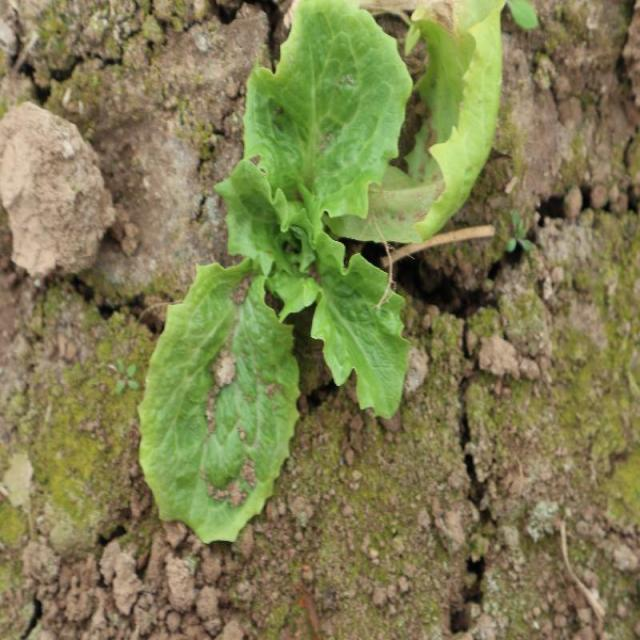crop: (133, 0, 504, 549)
